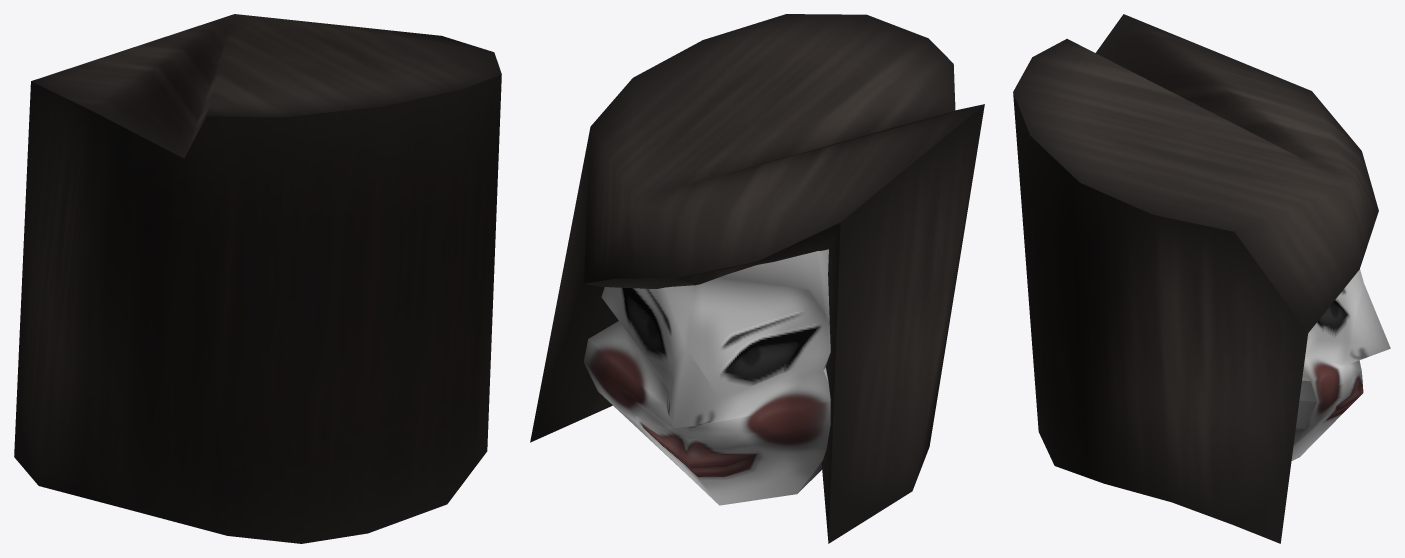
The model's file is hackette.glb.
3 views of the same model, side by side, from view 1: azimuth 30°, elevation 25°; view 2: azimuth 150°, elevation 25°; view 3: azimuth 270°, elevation 25° (orthographic). The views are drawn at different scales.
Visible parts, largest first — view 1: hackette; view 2: hackette; view 3: hackette.
Part boxes in pixels (x1,y1,x2,y2): hackette: [14, 14, 501, 543]; hackette: [530, 14, 984, 543]; hackette: [1013, 14, 1390, 543].
Size of the model in its own units: 2.24 by 2.2 by 2.05.
Materials: 1 (1 with a texture image).
